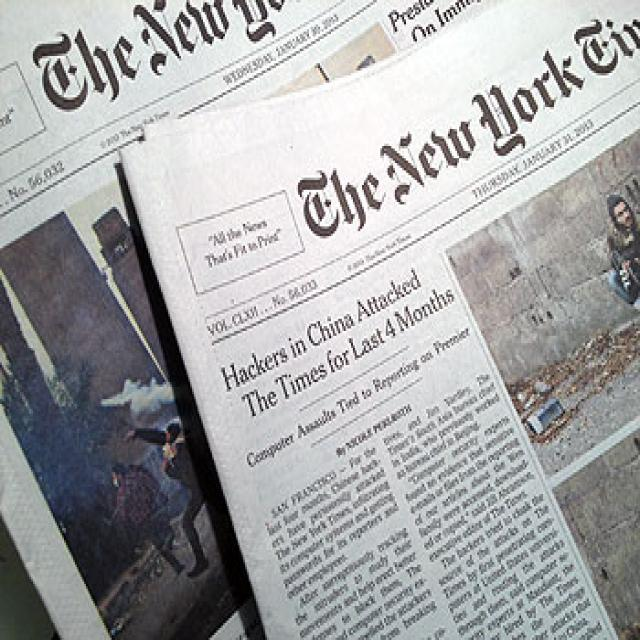newspaper: (140, 3, 640, 640), (0, 0, 274, 640)
